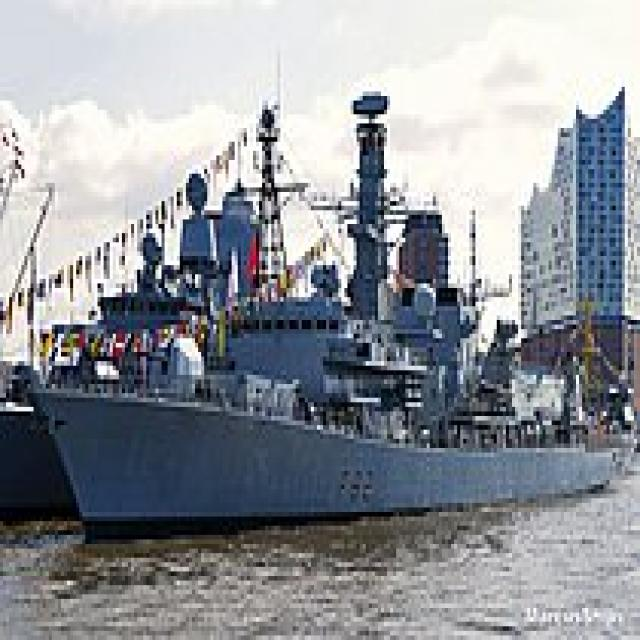Warship: (21, 82, 612, 535)
